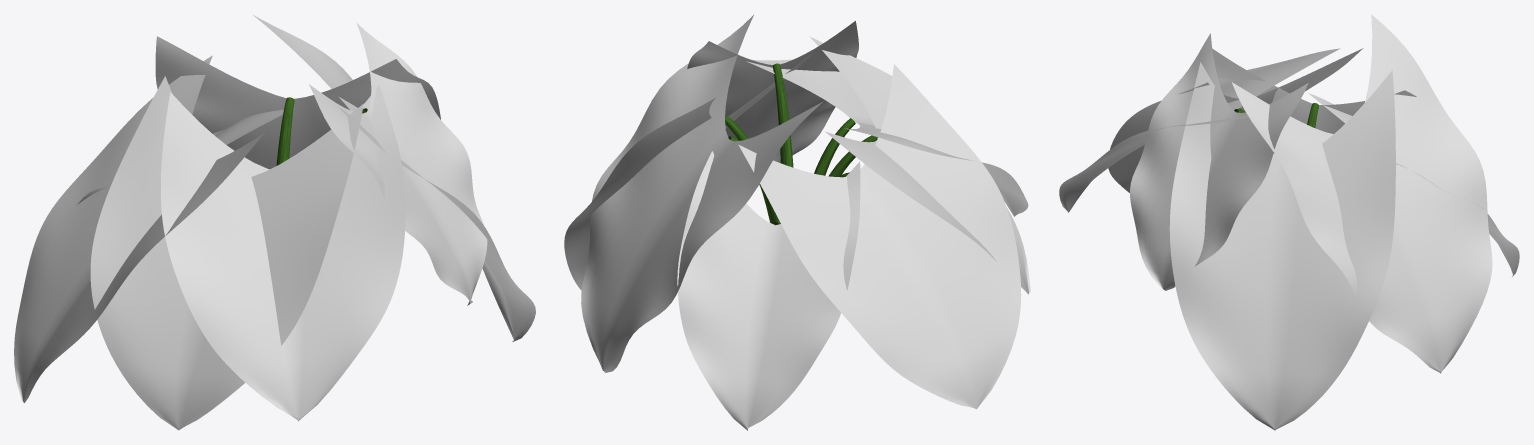
File: Riesenblatt_2.fbx
3 views of the same model, side by side, from view 1: azimuth 30°, elevation 25°; view 2: azimuth 150°, elevation 25°; view 3: azimuth 270°, elevation 25° (orthographic). The views are drawn at different scales.
Parts seen in each view (by area): view 1: Riesenblatt_2; view 2: Riesenblatt_2; view 3: Riesenblatt_2.
Part boxes in pixels (x1,y1,x2,y2): Riesenblatt_2: (14,14,535,430); Riesenblatt_2: (564,15,1030,430); Riesenblatt_2: (1059,14,1519,430).
Size of the model in its own units: 1.88 by 1.33 by 1.87.
